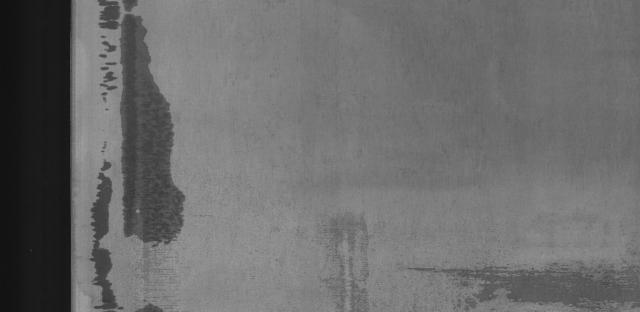oil_spot: (83, 2, 194, 311), (416, 248, 628, 312)
